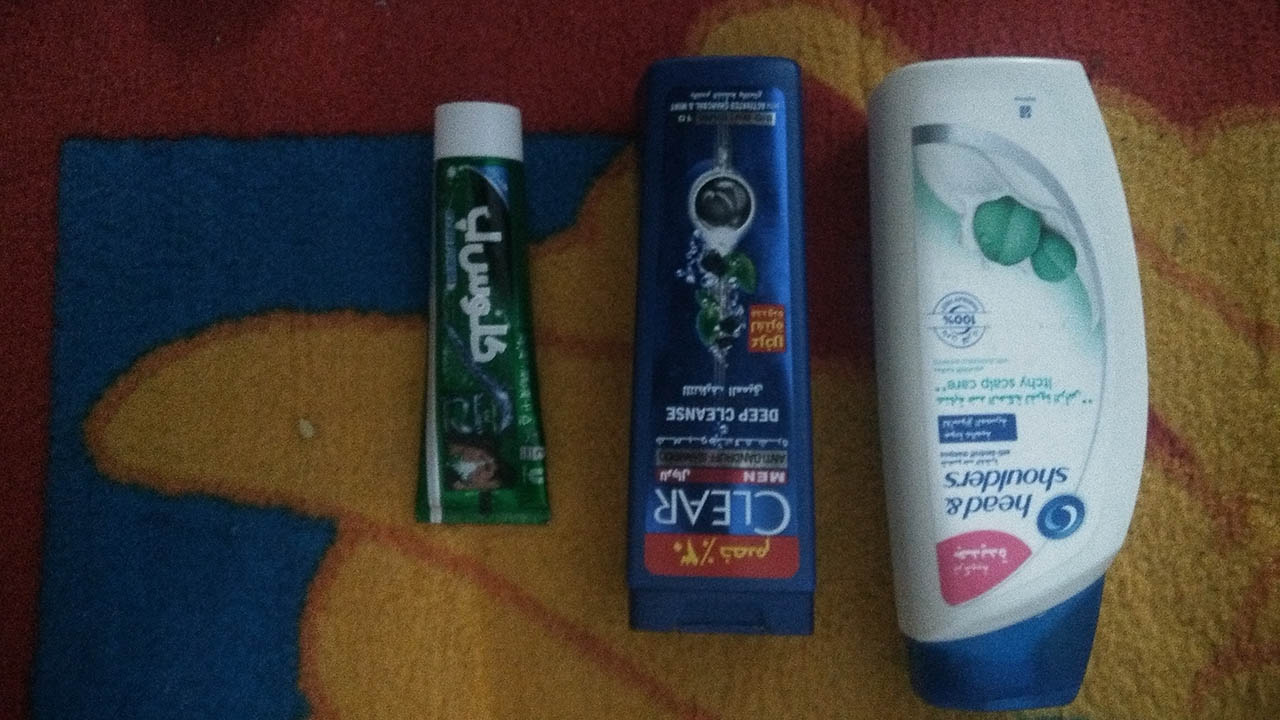Shampoo-Clear 4.7$: (621, 43, 826, 666)
Toothpaste-Closeup 3.04$: (416, 82, 572, 579)
shampoo-green 4.5$: (860, 41, 1158, 685)
